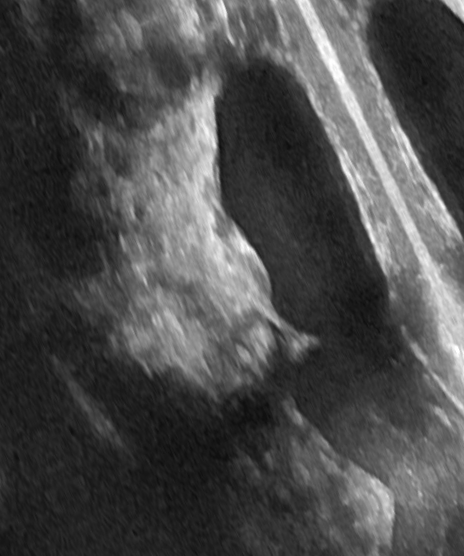Benign: (209, 21, 460, 333), (210, 62, 410, 326)
